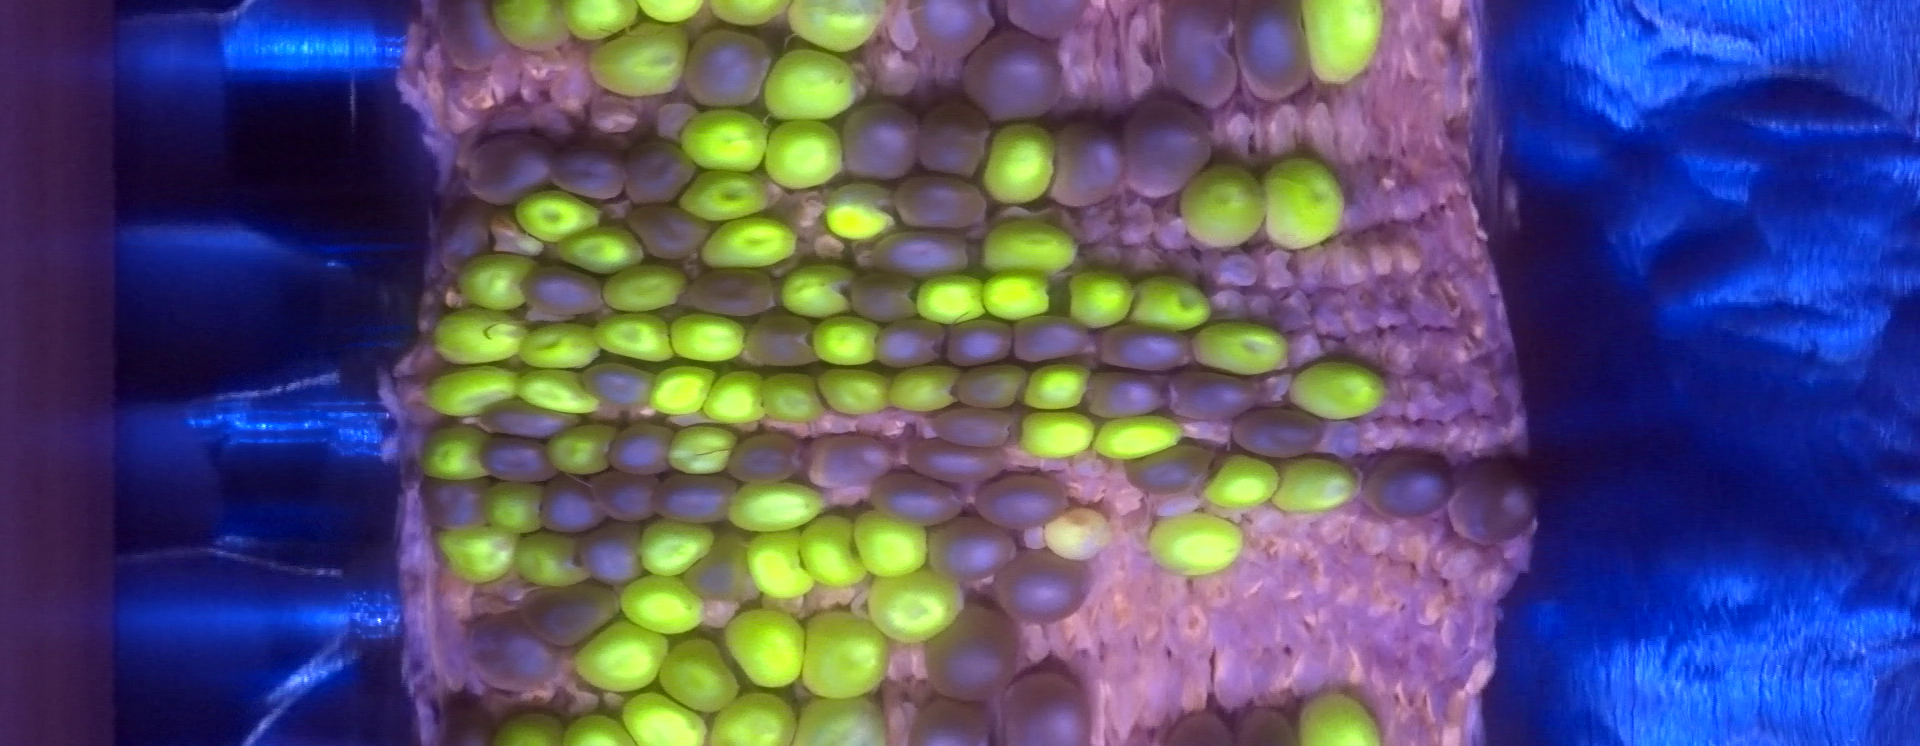fluorescent: (1253, 149, 1356, 265), (743, 42, 876, 131), (789, 604, 901, 707), (1169, 158, 1283, 258), (580, 15, 697, 107), (1133, 503, 1256, 586), (564, 615, 677, 704), (711, 600, 816, 696), (969, 118, 1069, 212), (1292, 1, 1396, 92), (752, 114, 860, 200), (861, 567, 975, 646), (653, 635, 756, 720), (1261, 446, 1368, 527), (720, 472, 839, 544), (972, 216, 1089, 288), (1284, 354, 1397, 428), (844, 503, 943, 587), (1183, 311, 1296, 383), (693, 211, 811, 279), (425, 303, 540, 372), (791, 508, 876, 603), (736, 522, 823, 612), (676, 103, 778, 180), (448, 246, 556, 318), (1119, 269, 1227, 341), (613, 570, 720, 639), (672, 163, 781, 230), (504, 184, 613, 251), (1198, 447, 1296, 522), (416, 356, 523, 424), (549, 218, 655, 284), (771, 256, 864, 331), (779, 686, 894, 746), (1087, 405, 1198, 468), (598, 254, 696, 323), (507, 363, 613, 426), (504, 524, 599, 595), (776, 1, 891, 59), (587, 306, 684, 371), (700, 686, 804, 746), (819, 178, 909, 247), (632, 514, 727, 579), (411, 419, 495, 492), (615, 686, 716, 746), (880, 354, 972, 420), (1060, 265, 1147, 334), (659, 307, 756, 370), (1007, 402, 1107, 462), (432, 521, 523, 587), (480, 1, 582, 59), (512, 316, 613, 374), (803, 312, 895, 375), (909, 268, 999, 331), (538, 419, 624, 484), (972, 266, 1060, 330), (1016, 354, 1101, 420), (637, 359, 724, 423), (660, 416, 744, 481), (478, 475, 556, 544), (809, 366, 902, 424), (1294, 687, 1385, 746), (1040, 502, 1123, 566), (696, 366, 775, 432), (751, 367, 831, 430), (549, 1, 638, 51), (556, 713, 632, 746), (707, 1, 789, 28), (493, 713, 560, 746), (640, 1, 715, 24)
nonfluorescent: (1109, 94, 1227, 207), (953, 28, 1079, 132), (920, 595, 1025, 710), (453, 601, 571, 703), (1439, 451, 1545, 559), (1151, 1, 1249, 118), (1224, 1, 1321, 111), (453, 127, 567, 219), (1037, 115, 1140, 216), (983, 541, 1101, 628), (676, 22, 781, 119), (988, 658, 1103, 746), (1352, 443, 1471, 526), (915, 508, 1032, 590), (509, 578, 632, 655), (1223, 396, 1340, 472), (884, 167, 999, 240), (967, 465, 1087, 535), (1153, 359, 1267, 432), (835, 98, 928, 187), (909, 98, 1003, 186), (568, 512, 659, 601), (864, 222, 983, 287), (861, 465, 972, 534), (612, 135, 705, 216), (904, 430, 1019, 494), (620, 195, 718, 269), (1096, 315, 1202, 383), (796, 428, 902, 496), (424, 196, 508, 282), (640, 465, 749, 532), (467, 424, 568, 494), (680, 260, 785, 327), (425, 1, 517, 78), (539, 140, 637, 212), (677, 526, 757, 614), (1004, 307, 1109, 374), (1080, 363, 1179, 432), (408, 470, 507, 539), (740, 306, 833, 379), (898, 1, 1003, 64), (1119, 439, 1224, 500), (473, 391, 584, 448), (719, 428, 816, 494), (513, 263, 620, 323), (528, 470, 616, 543), (583, 463, 671, 532), (568, 355, 665, 418), (867, 312, 956, 379), (595, 419, 684, 484), (920, 399, 1022, 456), (937, 314, 1029, 376), (841, 263, 924, 330), (945, 356, 1036, 416), (904, 697, 996, 746), (1153, 706, 1236, 745), (1229, 701, 1296, 746)
